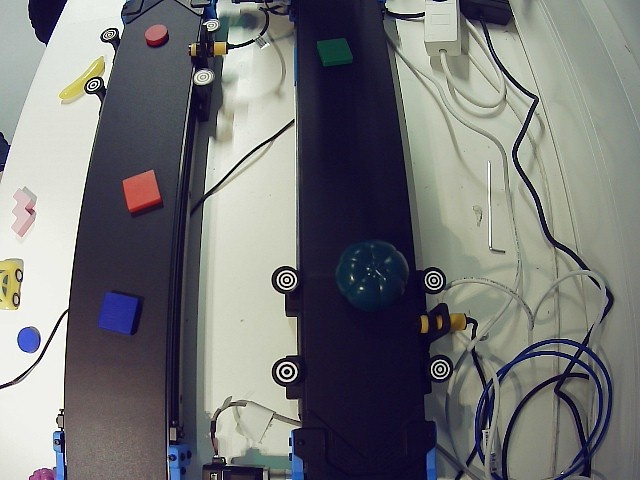Blue_Square: (96, 290, 146, 335)
Green_Square: (315, 36, 355, 69)
Red_Circle: (145, 25, 169, 44)
Red_Square: (121, 167, 167, 213)
Unknown: (338, 240, 414, 307)
